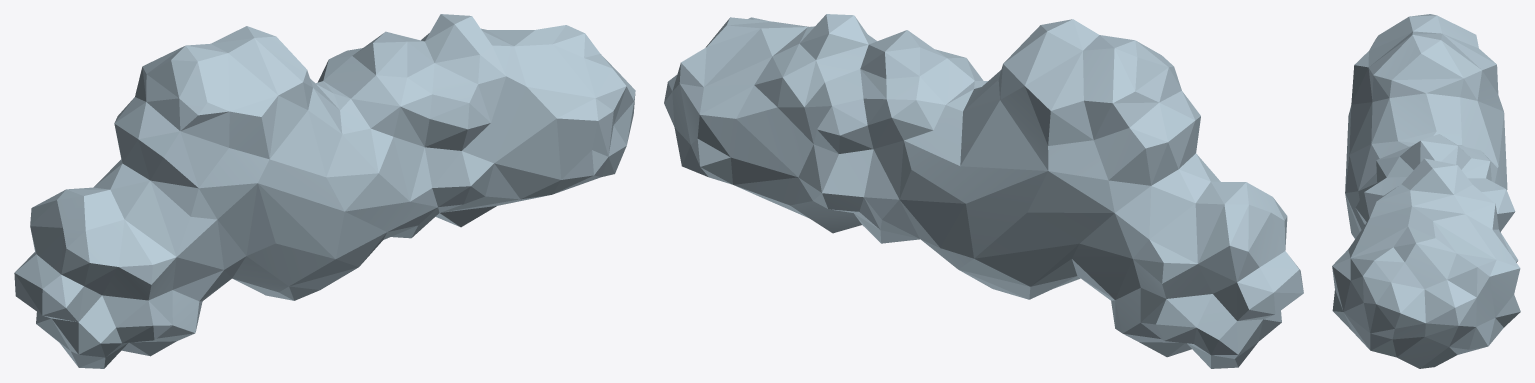
The model's file is stylize_cloud_4.fbx.
3 renders of one model, left to right at view 1: azimuth 30°, elevation 25°; view 2: azimuth 150°, elevation 25°; view 3: azimuth 270°, elevation 25°, orthographic. The views are drawn at different scales.
Visible parts, largest first — view 1: cloud_84; view 2: cloud_84; view 3: cloud_84.
Boxes of the visible parts, x1,y1,x2,y2 form: cloud_84: (14, 14, 635, 368); cloud_84: (664, 14, 1303, 368); cloud_84: (1332, 14, 1520, 368).
Bounding box in the file's own units: 692 × 329 × 220.
